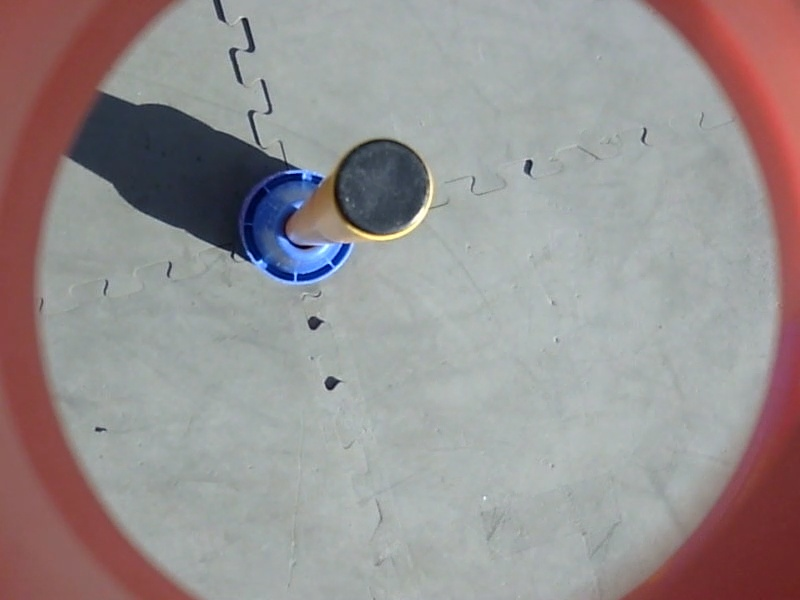tip: (326, 132, 439, 249)
